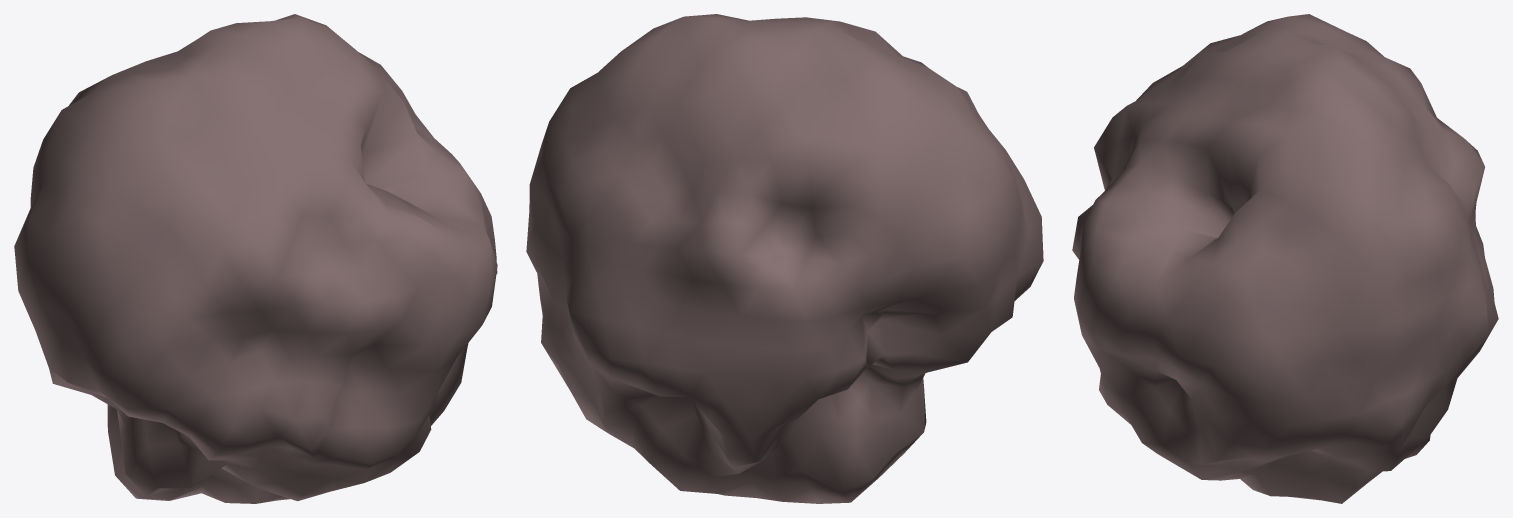
The model's file is asteroid_18.glb.
3 views of the same model, side by side, from view 1: azimuth 30°, elevation 25°; view 2: azimuth 150°, elevation 25°; view 3: azimuth 270°, elevation 25° (orthographic). The views are drawn at different scales.
Visible parts, largest first — view 1: Asteroid_18; view 2: Asteroid_18; view 3: Asteroid_18.
Part boxes in pixels (x1,y1,x2,y2): Asteroid_18: (14,14,497,503); Asteroid_18: (526,14,1043,503); Asteroid_18: (1072,14,1498,503).
Bounding box in the file's own units: 2.28 × 2.26 × 2.02.
